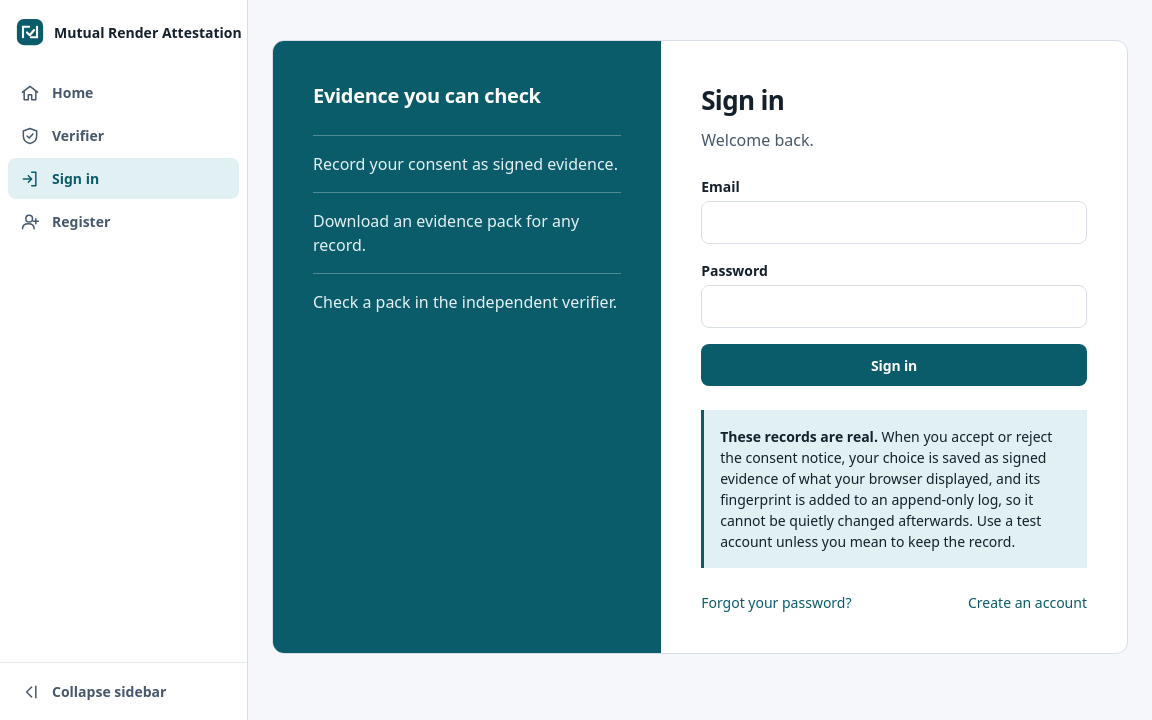
Test: Login page › uses one generic message for bad credentials
Expected: the button "Sign in" is enabled, [701,344,1087,386]
In the field labelled "Email": (894, 222) [701,201,1087,244], type "alice@example.com"
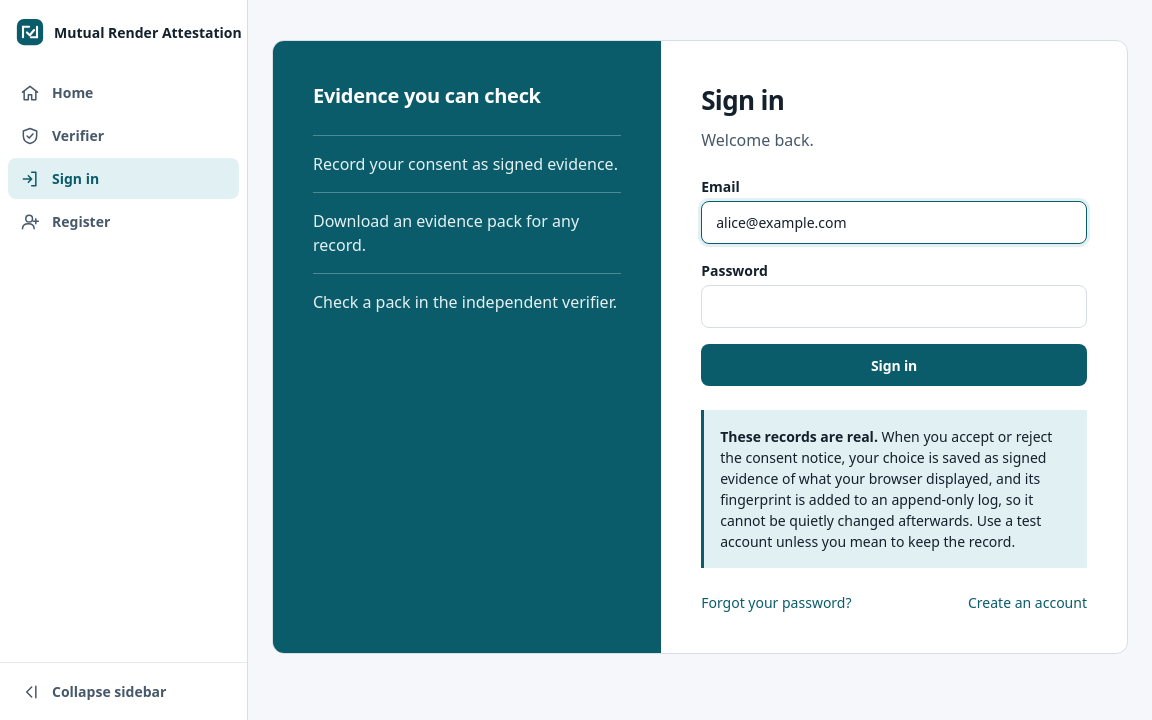
In the password field labelled "Password": (894, 306) [701,285,1087,328], type "secret-password-1"
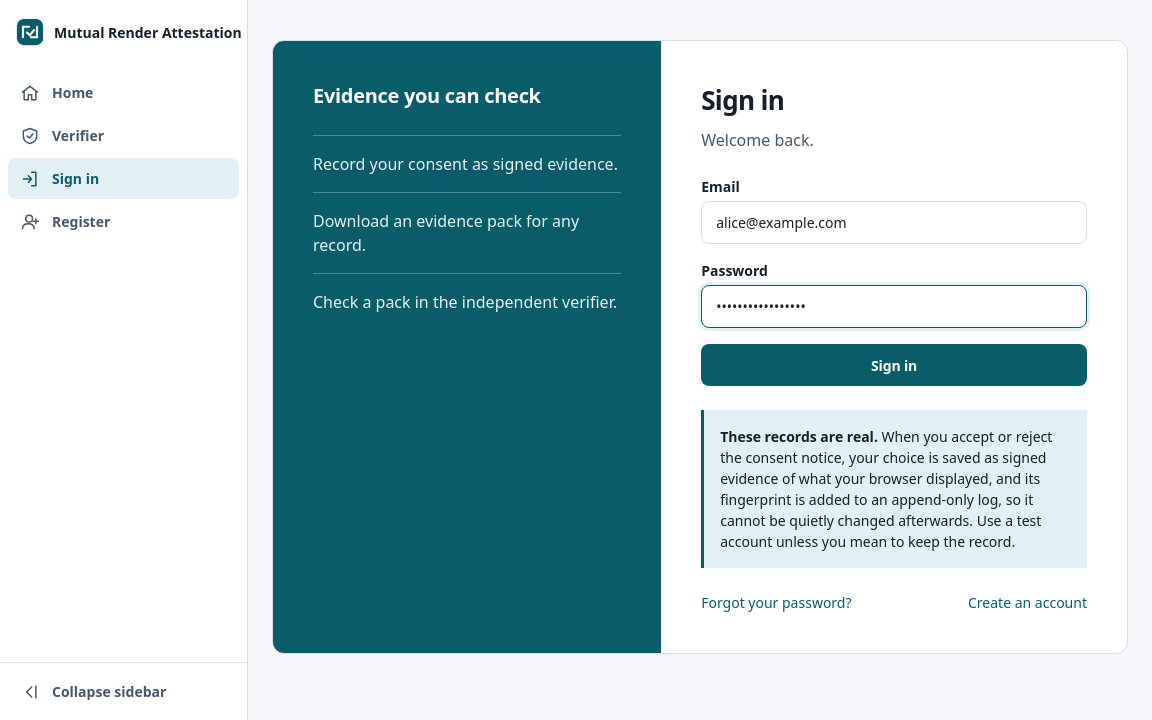
Click the button "Sign in": (894, 365) [701,344,1087,386]
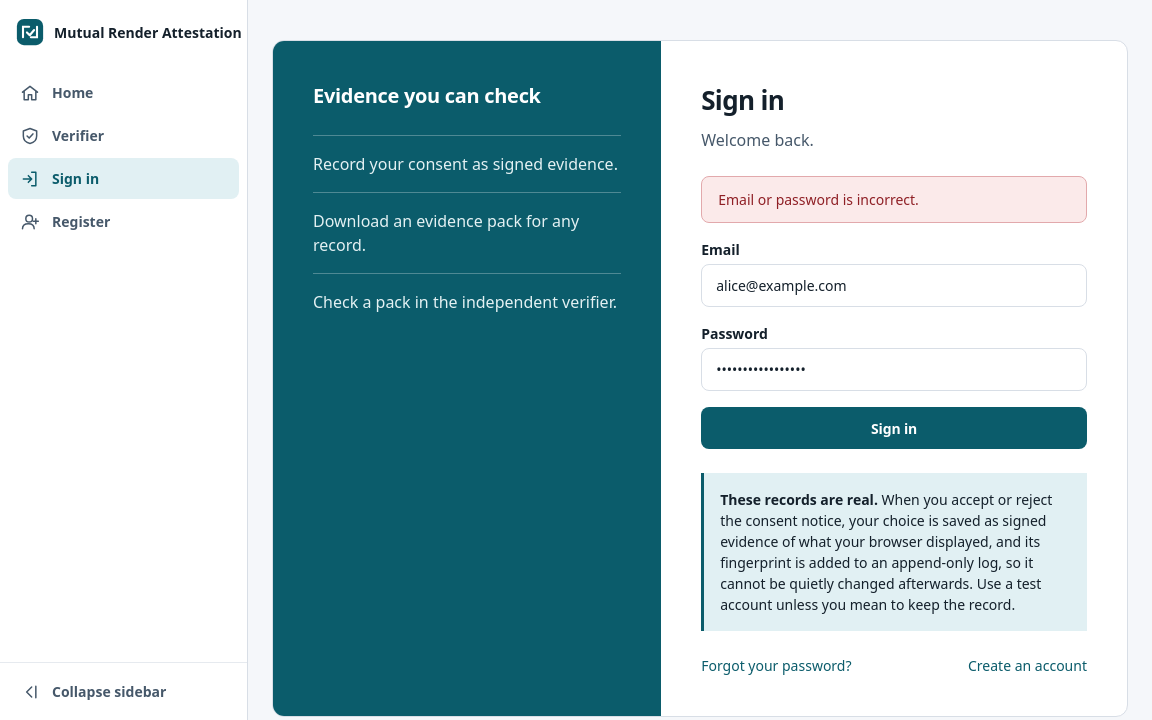
Result: the message reads "Email or password is incorrect." at [718,190,919,209]
